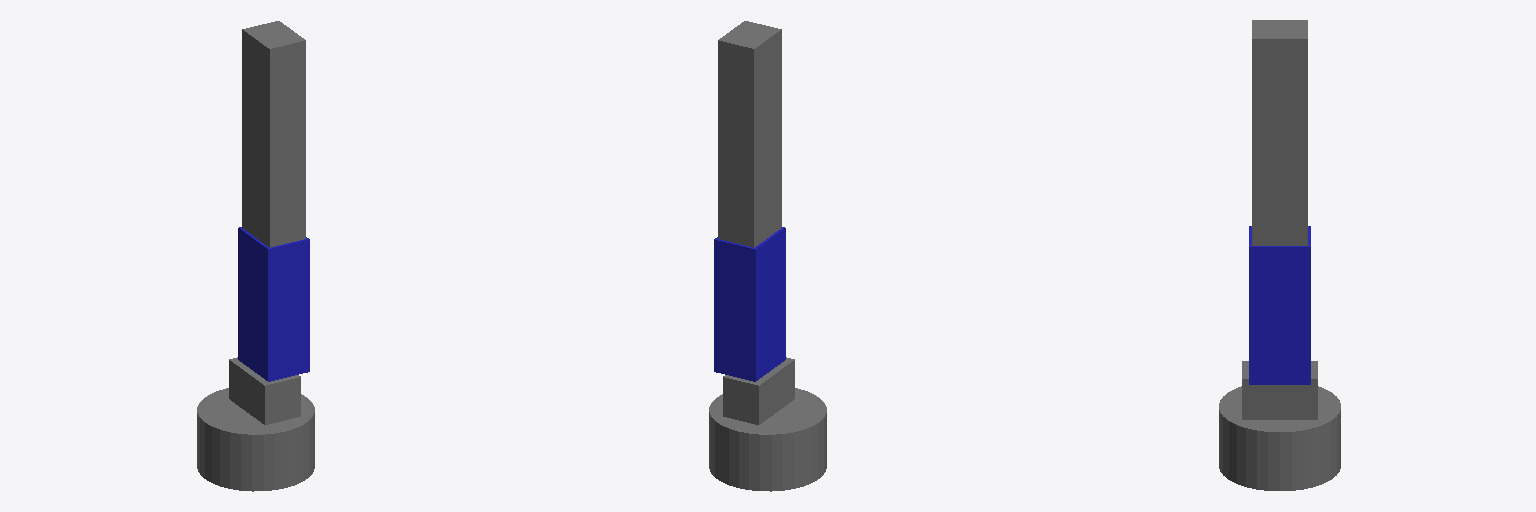
The robot description file, URDF, robot "arm_robot":
<?xml version="1.0"?>
<robot name="arm_robot">

  <material name="grey">
    <color rgba="0.5 0.5 0.5 1"/>
  </material>
  <material name="blue">
    <color rgba="0.2 0.2 0.8 1"/>
  </material>

  <link name="base_link">
    <visual>
      <origin xyz="0 0 0.026" rpy="0 0 0"/>
      <geometry>
        <cylinder length="0.052" radius="0.049"/>
      </geometry>
      <material name="grey"/>
    </visual>
  </link>

  <joint name="base_joint" type="revolute">
    <parent link="base_link"/>
    <child link="shoulder_link"/>
    <origin xyz="0 0 0.052" rpy="0 0 0"/>
    <axis xyz="0 0 1"/>
    <limit lower="-3.1415" upper="3.1415" effort="10" velocity="1.0"/>
  </joint>

  <link name="shoulder_link">
    <visual>
      <origin xyz="0.00875 0 0.018138" rpy="0 0 0"/>
      <geometry>
        <box size="0.035 0.06 0.036276"/>
      </geometry>
      <material name="grey"/>
    </visual>
  </link>

  <joint name="shoulder_joint" type="revolute">
    <parent link="shoulder_link"/>
    <child link="arm_1"/>
    <origin xyz="0.0175 0 0.036276" rpy="0 0 0"/>
    <axis xyz="0 1 0"/>
    <limit lower="-1.5708" upper="1.5708" effort="10" velocity="1.0"/>
  </joint>

  <link name="arm_1">
    <visual>
      <origin xyz="0 0 0.060725" rpy="0 0 0"/>
      <geometry>
        <box size="0.04 0.05 0.12145"/>
      </geometry>
      <material name="blue"/>
    </visual>
  </link>

  <joint name="elbow_joint" type="revolute">
    <parent link="arm_1"/>
    <child link="arm_2"/> 
    <origin xyz="0 0 0.12145" rpy="0 0 0"/>
    <axis xyz="0 1 0"/>
    <limit lower="-1.5708" upper="1.5708" effort="10" velocity="1.0"/>
  </joint>

  <link name="arm_2">
    <visual>
      <origin xyz="0 0 0.0910875" rpy="0 0 0"/>
      <geometry>
        <box size="0.035 0.045 0.182175"/>
      </geometry>
      <material name="grey"/>
    </visual>
  </link>

</robot>

--- Render facts (derived) ---
The picture shows the robot from 3 angles, left to right: view 1: azimuth 30°, elevation 25°; view 2: azimuth 150°, elevation 25°; view 3: azimuth 270°, elevation 25°; orthographic projection.
Robot: arm_robot — 4 links, 3 joints (3 revolute); root link base_link; default pose: every joint at zero.
Links seen in each view (by area): view 1: arm_2, arm_1, base_link, shoulder_link; view 2: arm_2, arm_1, base_link, shoulder_link; view 3: arm_2, base_link, arm_1, shoulder_link.
Boxes of the visible links, <box> form: arm_2: <box>242,21,305,247</box>; arm_1: <box>238,227,309,381</box>; base_link: <box>197,388,314,491</box>; shoulder_link: <box>229,357,300,424</box>; arm_2: <box>718,21,781,247</box>; arm_1: <box>714,227,785,381</box>; base_link: <box>709,388,826,491</box>; shoulder_link: <box>723,357,794,424</box>; arm_2: <box>1252,20,1307,245</box>; base_link: <box>1219,386,1340,490</box>; arm_1: <box>1249,226,1310,384</box>; shoulder_link: <box>1242,361,1317,419</box>.
Size in the robot's own frame: 0.098 by 0.098 by 0.3919 metres.
Geometry: primitives only (box / cylinder / sphere), no mesh files.